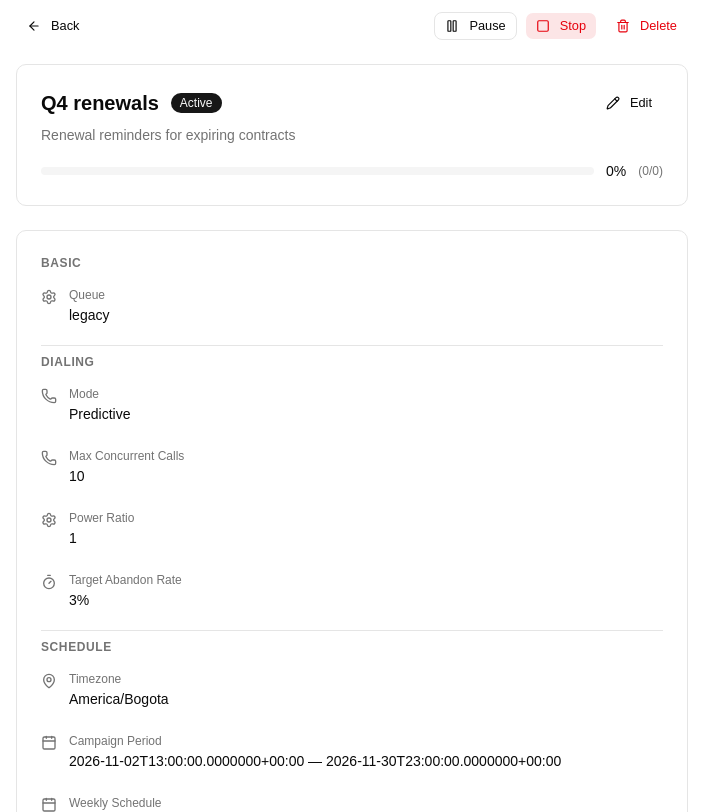
Test: CampaignDetailPage edit form › CampaignDetailPage_ShouldKeepAnUnlistedSavedQueue_WhenOnlyTheNameIsChanged
The image size is (705, 812).
Check: the heading "Q4 renewals" is shown, box [41,89,159,117]
Click the button "Edit" at point(629, 103), box [595,89,663,117]
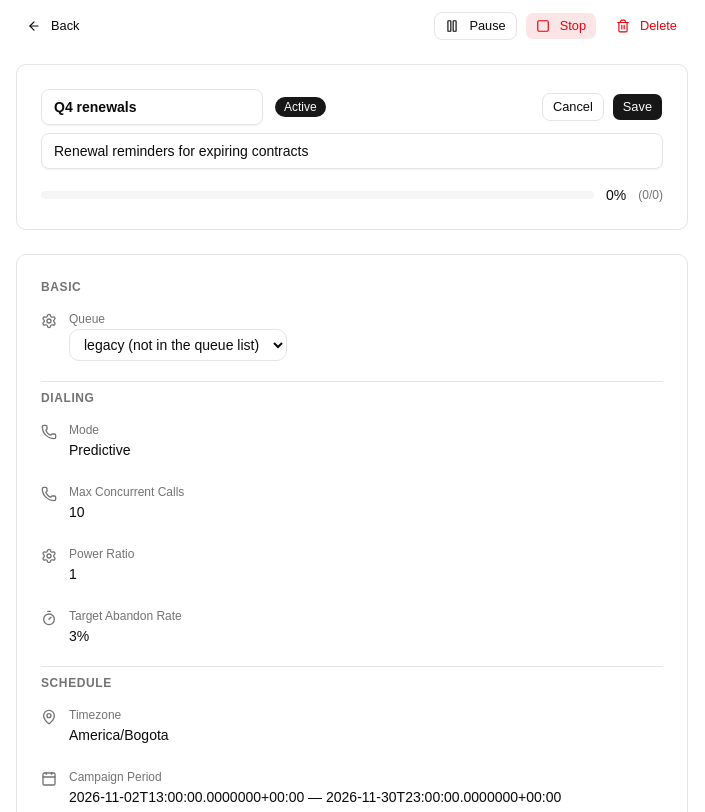
Check: the field showing "Q4 renewals" next to "Active" is shown
Check: the dropdown with test id "campaign-edit-queue" shows "legacy (not in the queue list)", box [69,329,287,361]
Replace the text in the field showing "Q4 renewals" next to "Active" with "Q4 renewals (edited)" at point(152, 107), box [41,89,263,125]
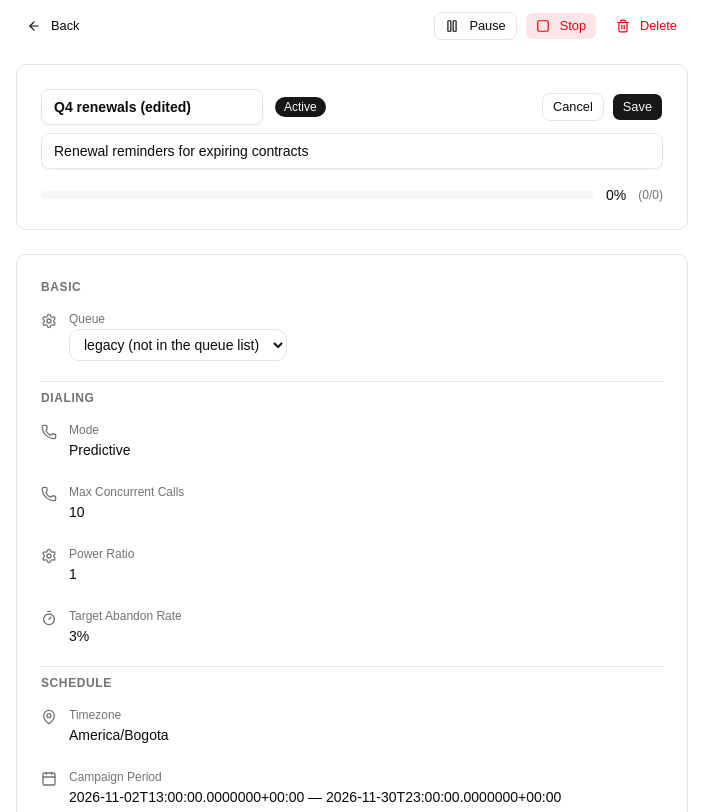
Click the button "Save" at point(637, 107), box [612,93,663,121]
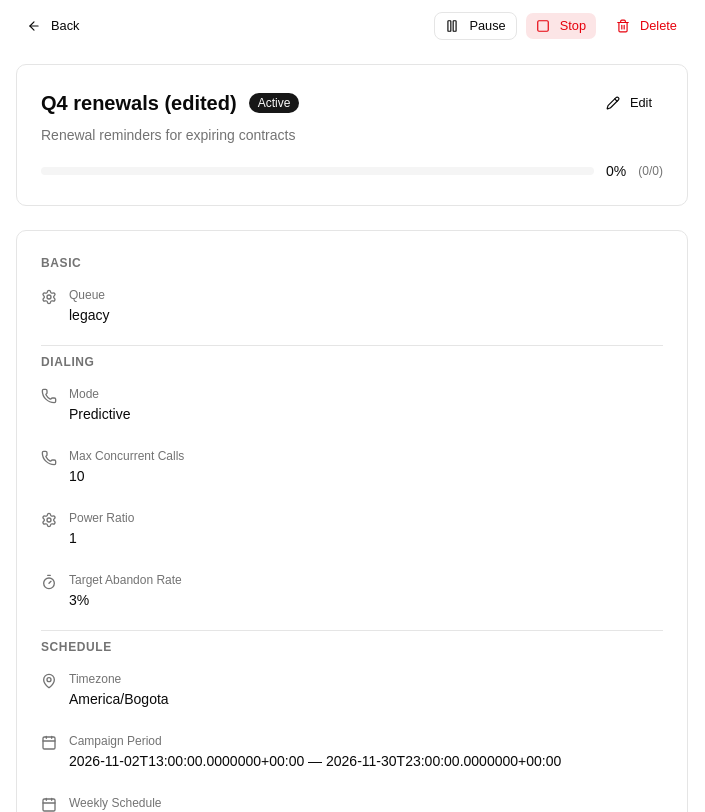
Check: the heading "Q4 renewals (edited)" is shown, box [41,89,237,117]
Check: the text "legacy" is shown, box [69,305,110,325]
